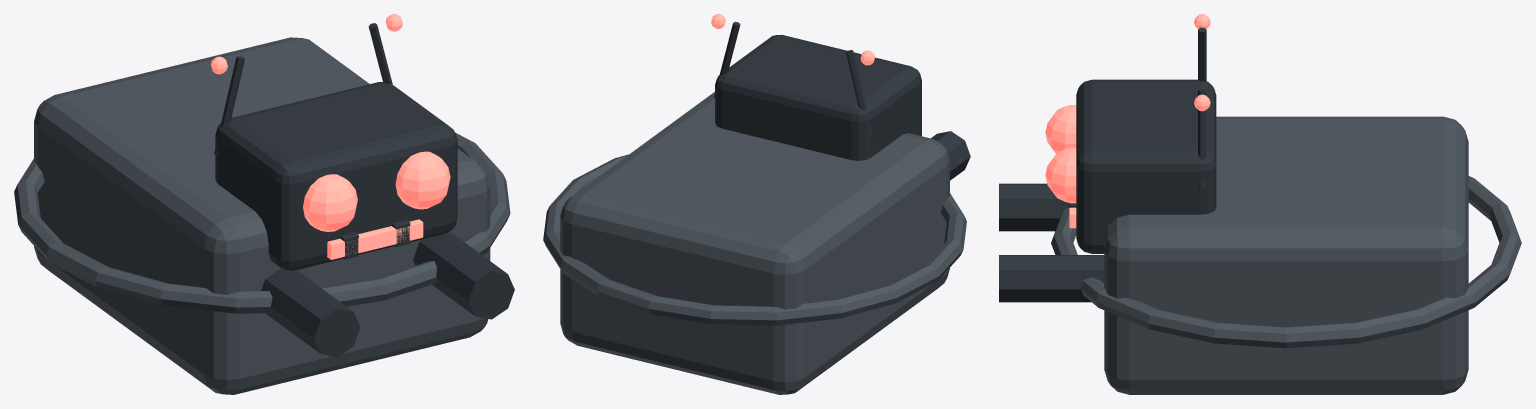
File: enemy_heavy.glb
The picture shows the model from 3 angles, left to right: view 1: azimuth 30°, elevation 25°; view 2: azimuth 150°, elevation 25°; view 3: azimuth 270°, elevation 25°; orthographic projection. The views are drawn at different scales.
Parts seen in each view (by area): view 1: enemy_heavy; view 2: enemy_heavy; view 3: enemy_heavy.
Part boxes in pixels (x1,y1,x2,y2): enemy_heavy: [14, 14, 514, 394]; enemy_heavy: [543, 14, 970, 394]; enemy_heavy: [999, 14, 1521, 394].
Size of the model in its own units: 1.68 by 1.12 by 1.87.
